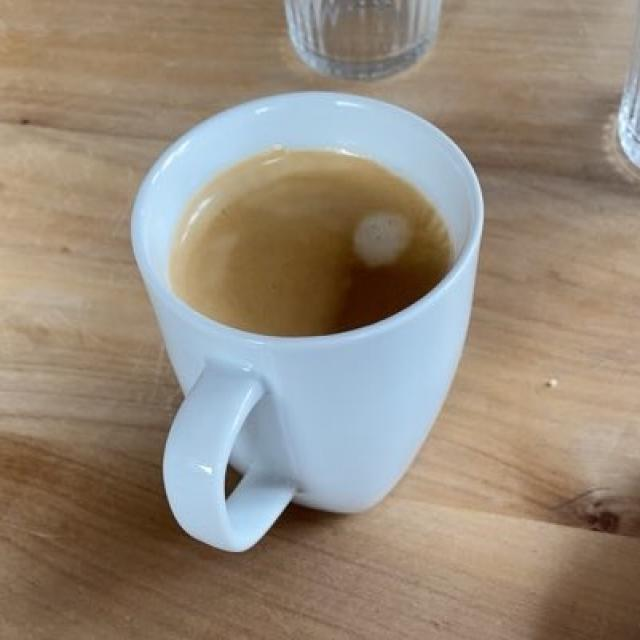coffee: (173, 154, 448, 335)
